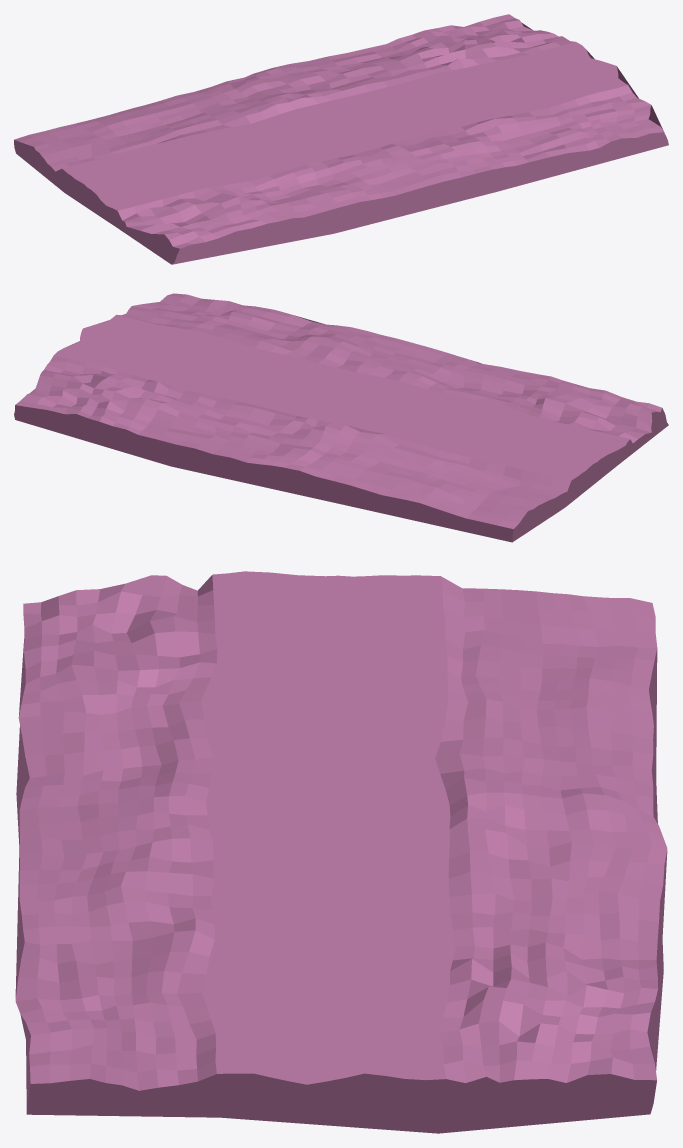
Rendered from zemın1.fbx.
3 views of the same model, one above another, from view 1: azimuth 30°, elevation 25°; view 2: azimuth 150°, elevation 25°; view 3: azimuth 270°, elevation 25° (orthographic). The views are drawn at different scales.
Parts seen in each view (by area): view 1: Plane.003; view 2: Plane.003; view 3: Plane.003.
Part boxes in pixels (x1,y1,x2,y2): Plane.003: (14, 14, 668, 264); Plane.003: (14, 293, 668, 542); Plane.003: (15, 571, 667, 1133).
Bounding box in the file's own units: 5411 × 374 × 2888.
